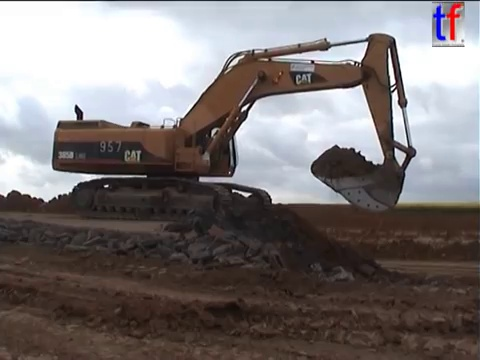excavator: (49, 30, 419, 224)
